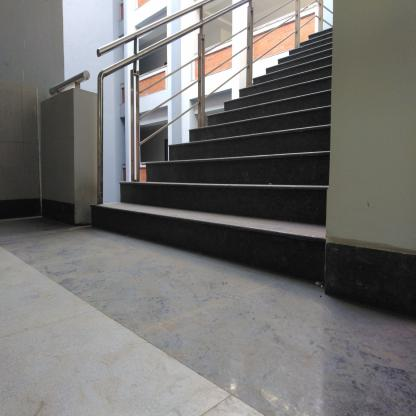stairs: (241, 93, 325, 291)
